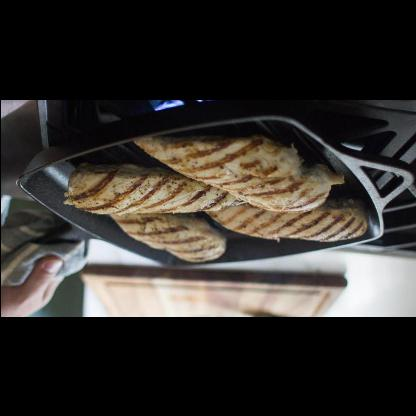grilled chicken breast: (132, 135, 343, 211), (63, 164, 247, 216), (204, 198, 368, 244), (112, 212, 228, 262)
